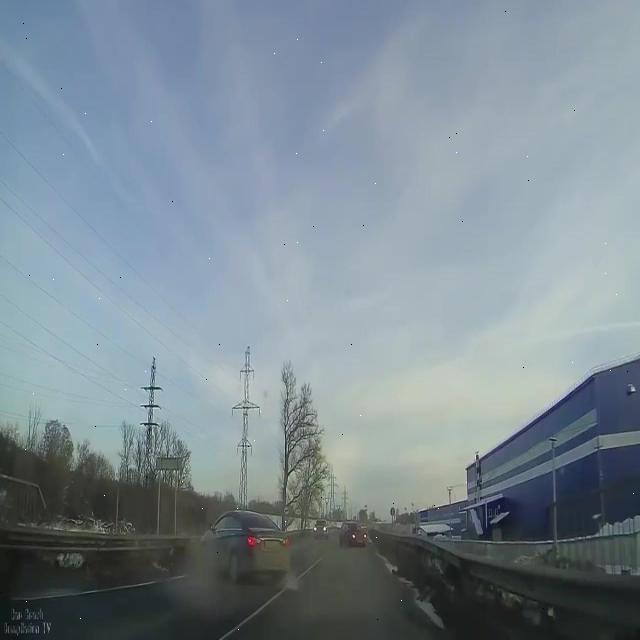moderate: (189, 489, 293, 588)
